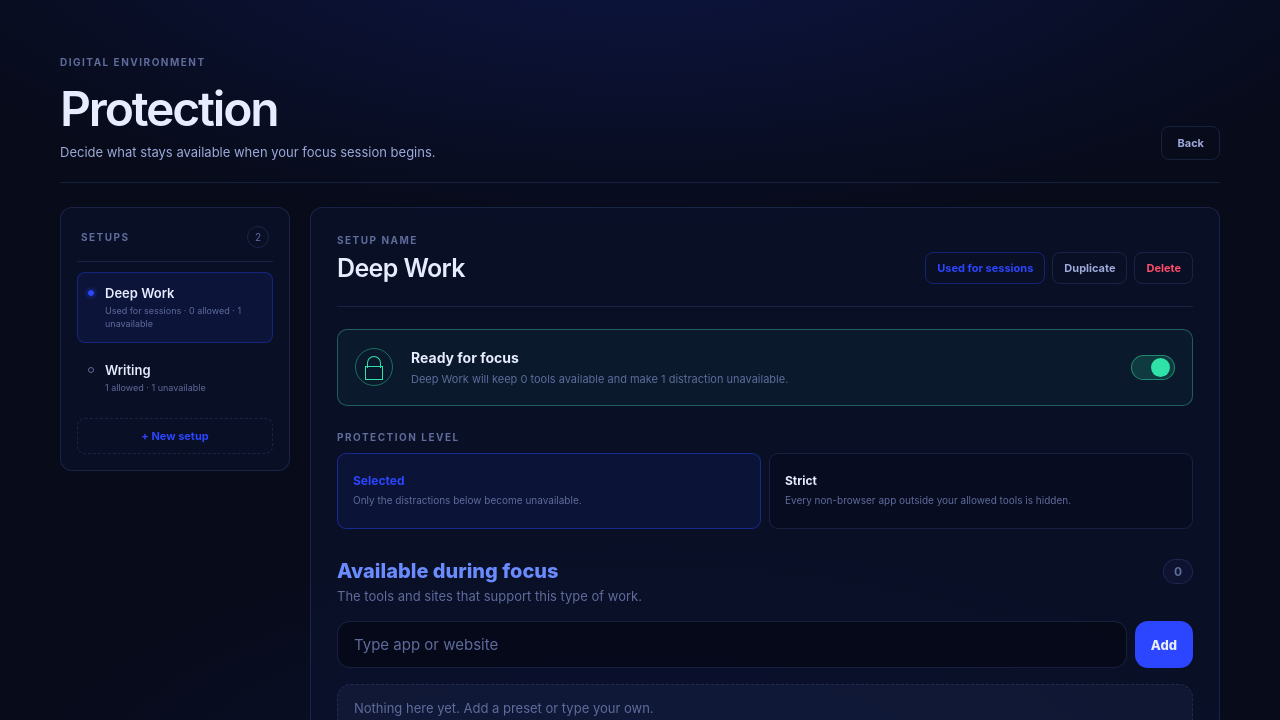
Test case: FocusAppsScreen setup library › deleting the edited setup keeps the session setup valid
Click the button "Delete" at x=1164, y=268, box x1=1134 y1=252 x2=1193 y2=284
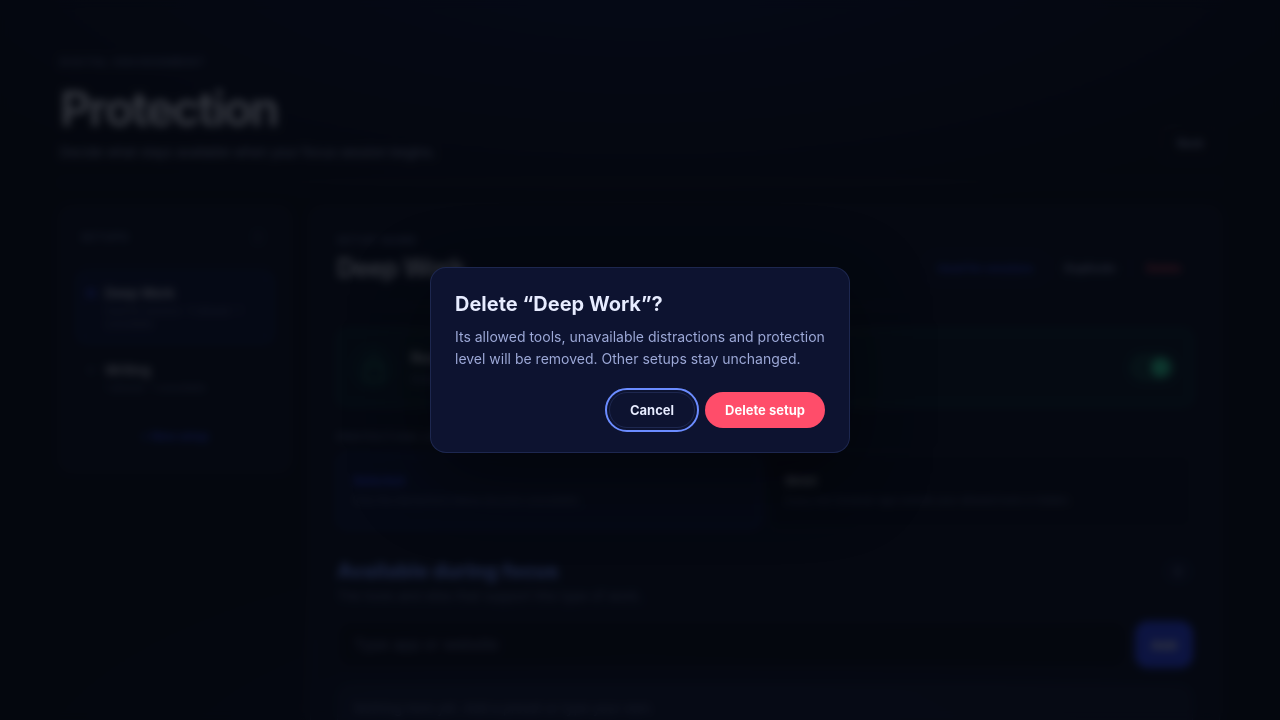
Click the button "Delete setup" at x=765, y=410, box x1=705 y1=392 x2=825 y2=428
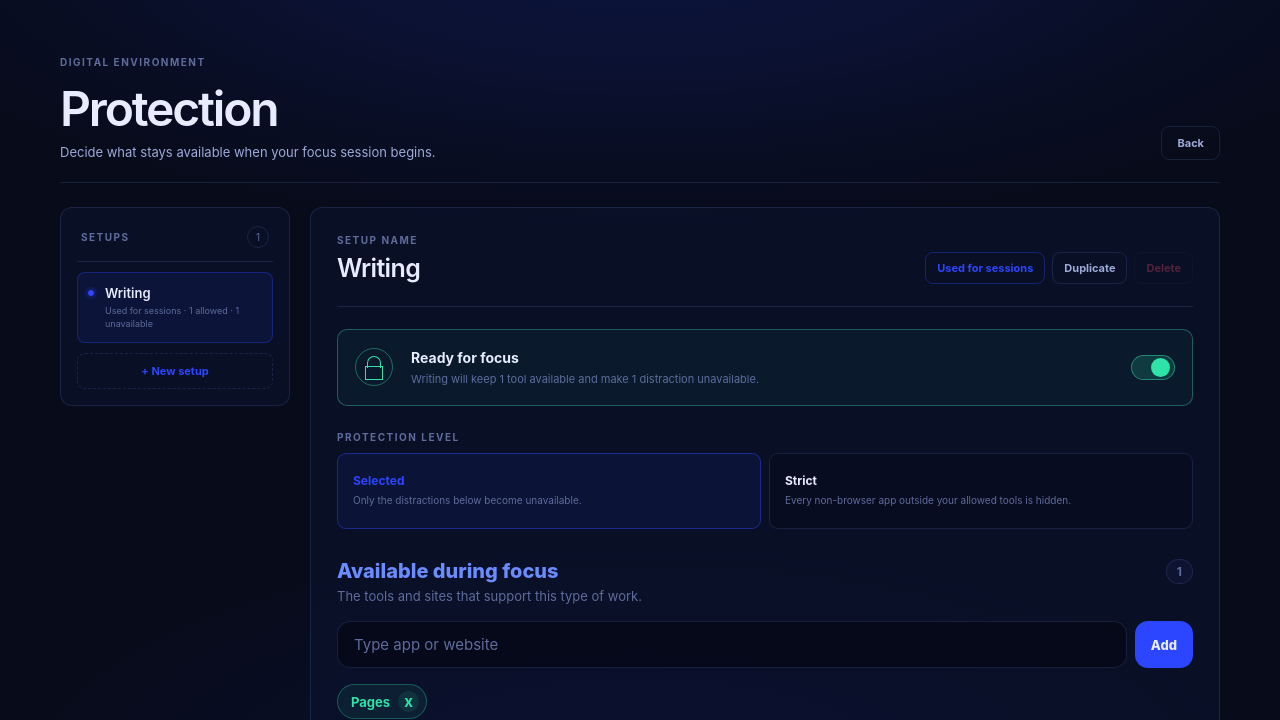
Expected: the text "Used for sessions" is shown, x1=925 y1=252 x2=1045 y2=284
Expected: the field labelled "Setup name" holds "Writing", x1=337 y1=253 x2=777 y2=284
Expected: the button "Delete" is disabled, x1=1134 y1=252 x2=1193 y2=284
